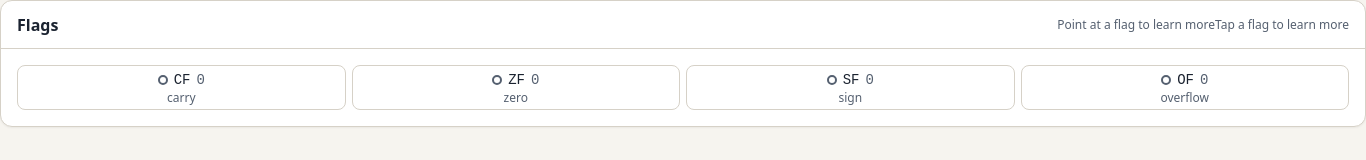
Test: FlagsPanel › explains a flag on focus and on tap
The image size is (1366, 160).
Focus the button "ZF 0 zero" at (516,88), box [352,65,680,110]
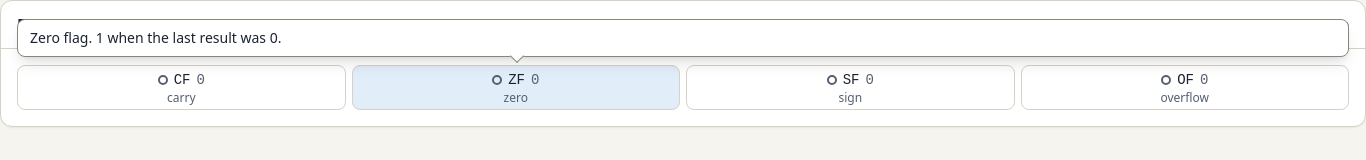
expect the text "Zero flag. 1 when the last result was 0." is shown 2 times: met
Leave the button "ZF 0 zero", box [352,65,680,110]
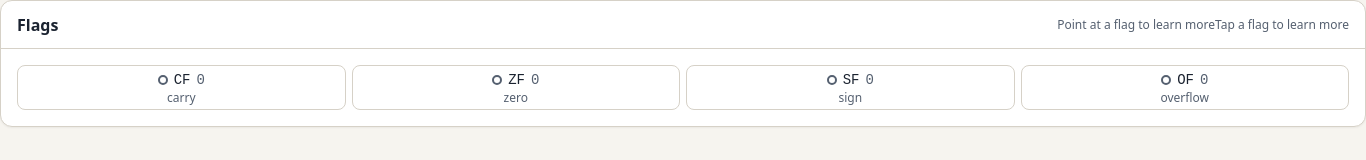
Click the button "ZF 0 zero" at (516,88), box [352,65,680,110]
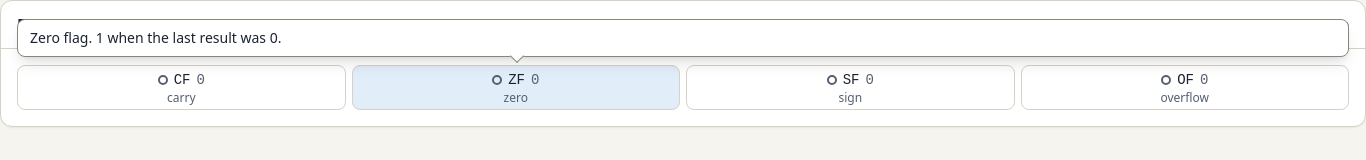
expect the text "Zero flag. 1 when the last result was 0." is shown 2 times: met
